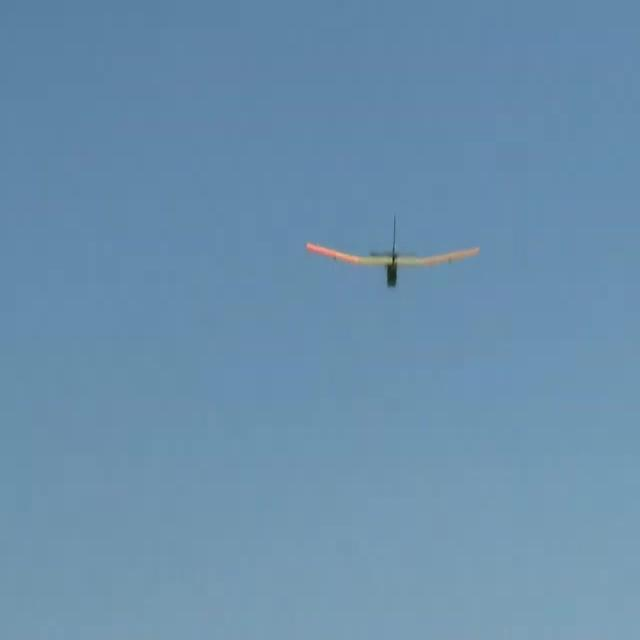iha: (298, 252, 474, 254)
